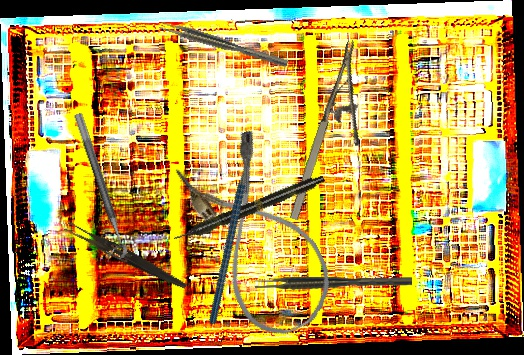Cannula: (170, 126, 347, 348)
Chopper: (148, 130, 308, 326)
Dressing Forceps: (62, 221, 190, 291)
Fixation Ring: (61, 112, 130, 263)
Handpiece: (171, 171, 327, 246)
Needle Holder: (284, 38, 391, 232)
Tissue Forceps: (158, 18, 289, 72), (255, 277, 412, 290)
